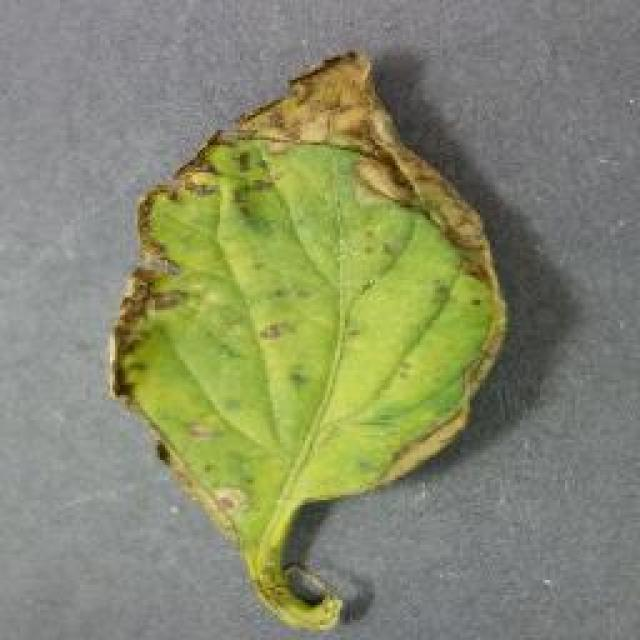Tomato bacterial spot leaf: (89, 31, 519, 640)
